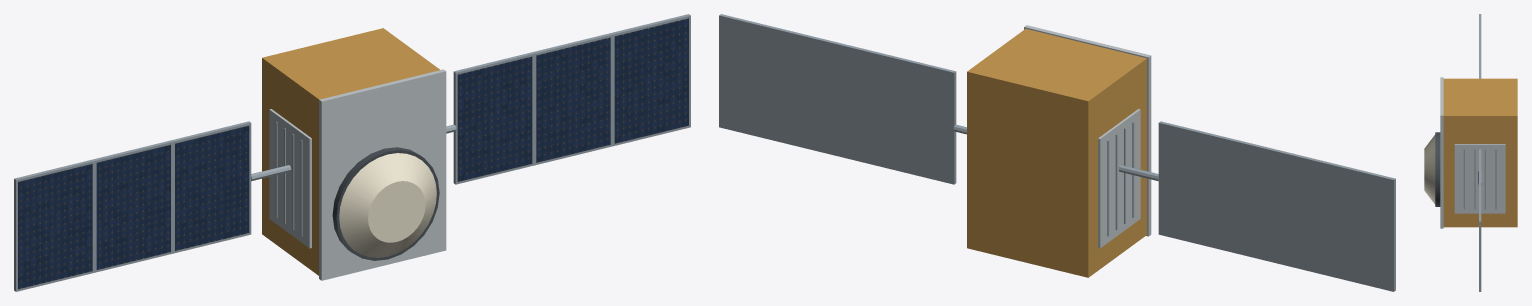
File: nvs.glb
3 views of the same model, side by side, from view 1: azimuth 30°, elevation 25°; view 2: azimuth 150°, elevation 25°; view 3: azimuth 270°, elevation 25° (orthographic). The views are drawn at different scales.
Visible parts, largest first — view 1: Photovoltaic laminates (×6), Payload deck, Equipment bus, Navigation antenna cover, Array frame (×6), Radiator, Navigation antenna base; view 2: Array frame (×6), Equipment bus, Radiator, Payload deck; view 3: Equipment bus, Radiator, Navigation antenna cover, Payload deck, Radiator channel (×4), Navigation antenna base, Array frame.
Part boxes in pixels (x1=…): Photovoltaic laminates (×6): x1=18, y1=18, x2=688, y2=289; Payload deck: x1=319, y1=69, x2=446, y2=280; Equipment bus: x1=262, y1=28, x2=439, y2=275; Navigation antenna cover: x1=339, y1=153, x2=436, y2=257; Array frame (×6): x1=14, y1=14, x2=690, y2=291; Radiator: x1=269, y1=109, x2=311, y2=248; Navigation antenna base: x1=332, y1=147, x2=439, y2=260; Array frame (×6): x1=719, y1=14, x2=1395, y2=291; Equipment bus: x1=967, y1=29, x2=1146, y2=277; Radiator: x1=1098, y1=109, x2=1140, y2=248; Payload deck: x1=1024, y1=25, x2=1151, y2=236; Equipment bus: x1=1443, y1=78, x2=1517, y2=227; Radiator: x1=1454, y1=144, x2=1505, y2=213; Navigation antenna cover: x1=1424, y1=134, x2=1435, y2=204; Payload deck: x1=1440, y1=77, x2=1443, y2=228; Radiator channel (×4): x1=1463, y1=149, x2=1496, y2=209; Navigation antenna base: x1=1435, y1=132, x2=1440, y2=206; Array frame: x1=1479, y1=197, x2=1481, y2=291.
Bounding box in the file's own units: 10 × 2.54 × 1.9.
Materials: 6 (1 with a texture image).
